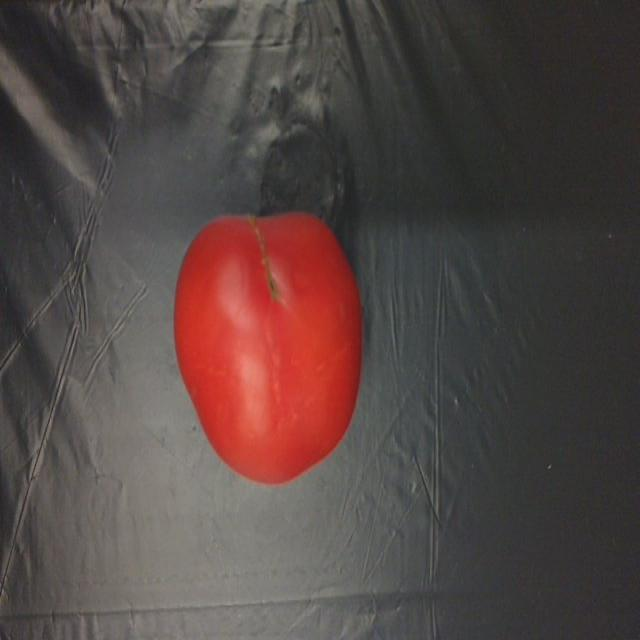kirmizi: (108, 170, 402, 524)
